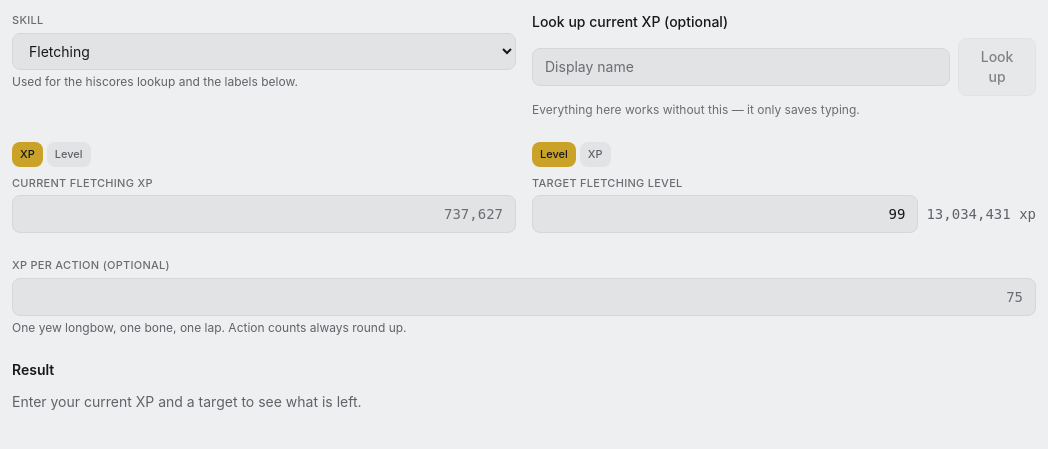
Scenario: XpCalculator › explains a rate-limited lookup without losing the rest of the form
Type "zezima" into the field labelled "Look up current XP (optional)" at point(741, 67), box 532,48 -> 950,86
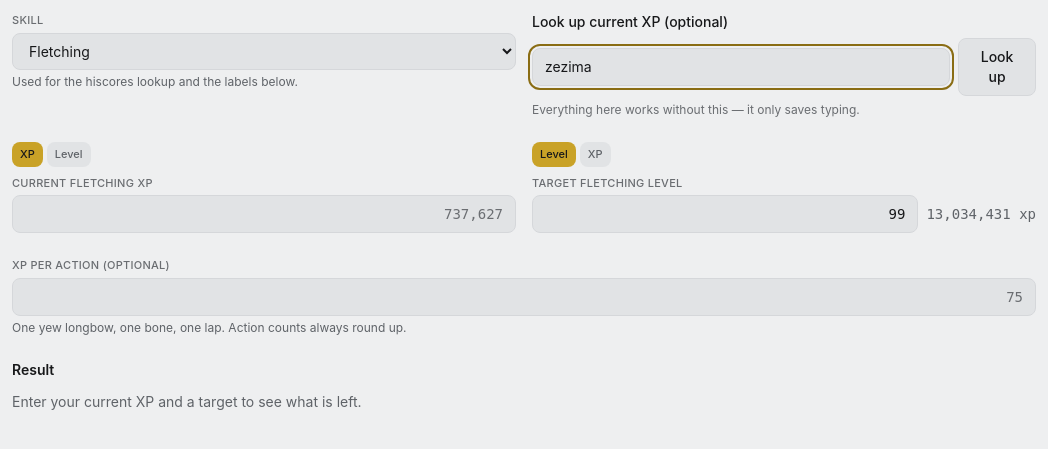
Click the button "Look up" at point(997, 67), box 958,38 -> 1036,96
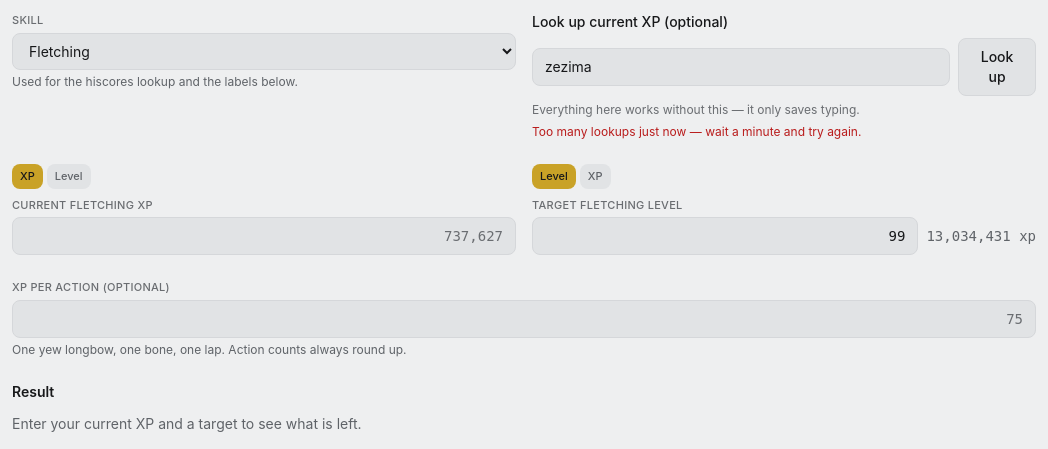
Expected: the field labelled "Current Fletching XP" is enabled, 12,217 -> 516,255
Expected: the message shows "Too many lookups", 532,124 -> 861,139
